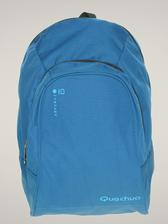bag: (15, 10, 158, 218)
